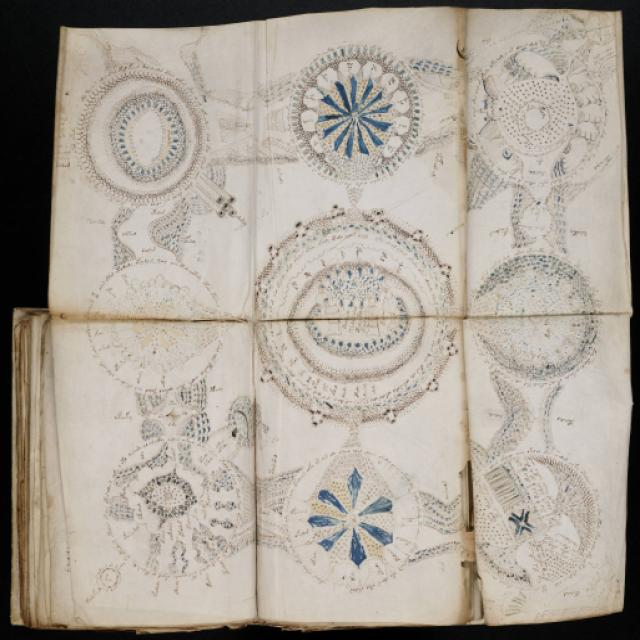ornament_circle: (59, 27, 617, 605), (241, 208, 463, 428), (464, 33, 620, 194), (93, 431, 256, 584), (277, 447, 431, 594), (281, 38, 424, 191), (82, 251, 231, 391), (466, 444, 607, 586), (69, 69, 208, 202), (471, 252, 606, 387)
